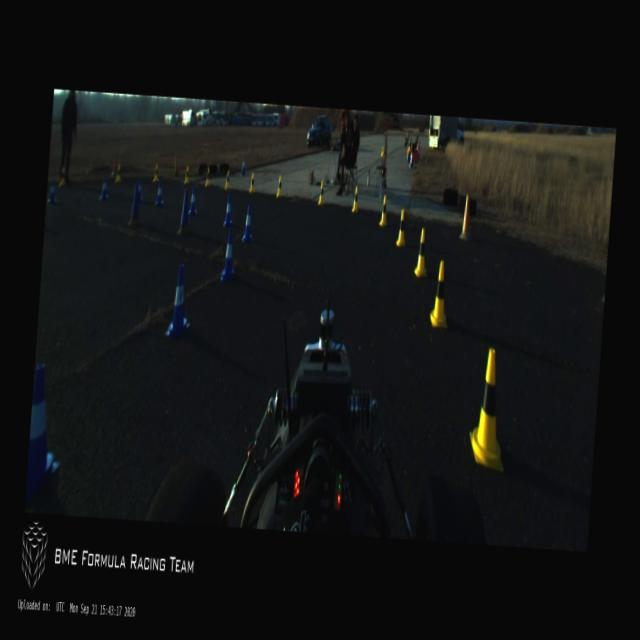blue_cone: (27, 363, 65, 492), (165, 263, 192, 336), (220, 229, 237, 280), (241, 203, 253, 241), (154, 179, 166, 206), (224, 195, 234, 224), (188, 186, 198, 215), (46, 178, 58, 202), (136, 177, 144, 202), (100, 176, 108, 198), (240, 158, 246, 172)
orange_cone: (418, 140, 420, 151)
unknown_cone: (458, 194, 474, 240), (178, 188, 192, 234), (128, 186, 142, 224)
yellow_cone: (466, 348, 509, 471), (429, 261, 450, 327), (414, 228, 429, 276), (396, 210, 407, 245), (379, 196, 388, 226), (352, 186, 358, 210), (318, 181, 324, 204), (276, 174, 282, 196), (249, 172, 255, 192), (115, 164, 122, 181), (183, 166, 190, 182), (224, 170, 230, 187), (204, 168, 210, 185), (153, 163, 159, 180), (60, 167, 66, 184), (407, 142, 411, 150)
